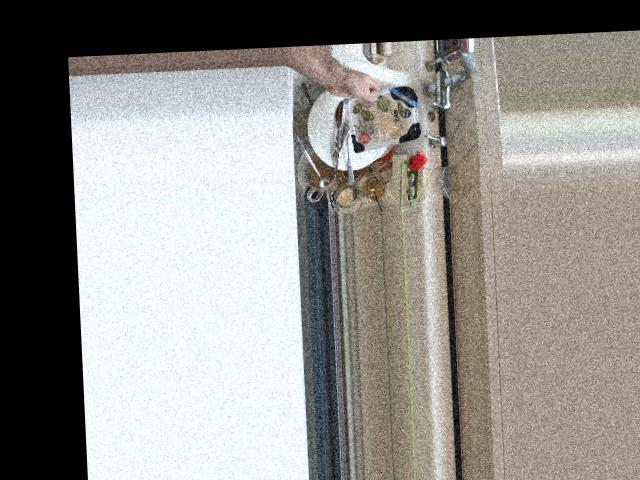cheese: (331, 66, 426, 151)
